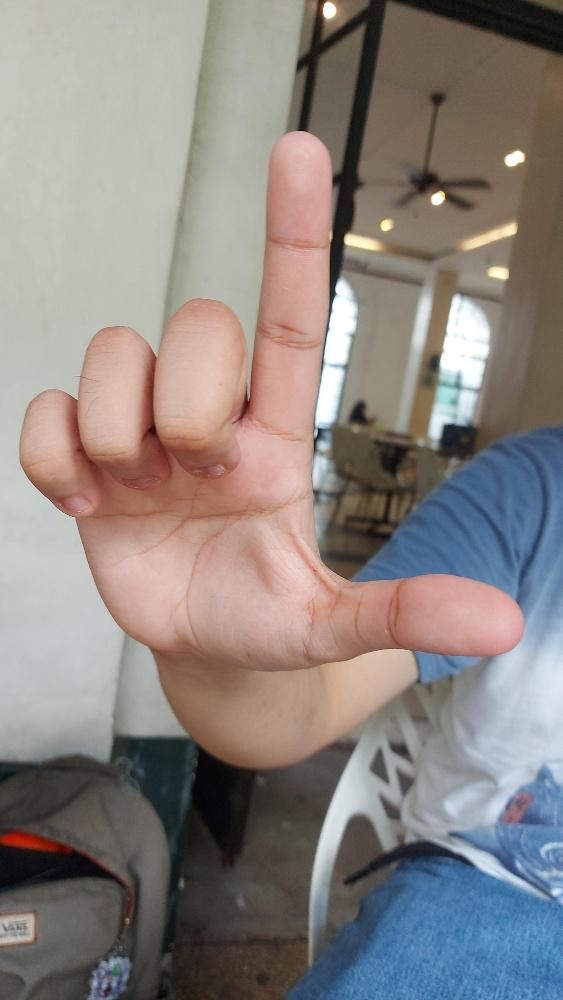l: (16, 129, 524, 671)
